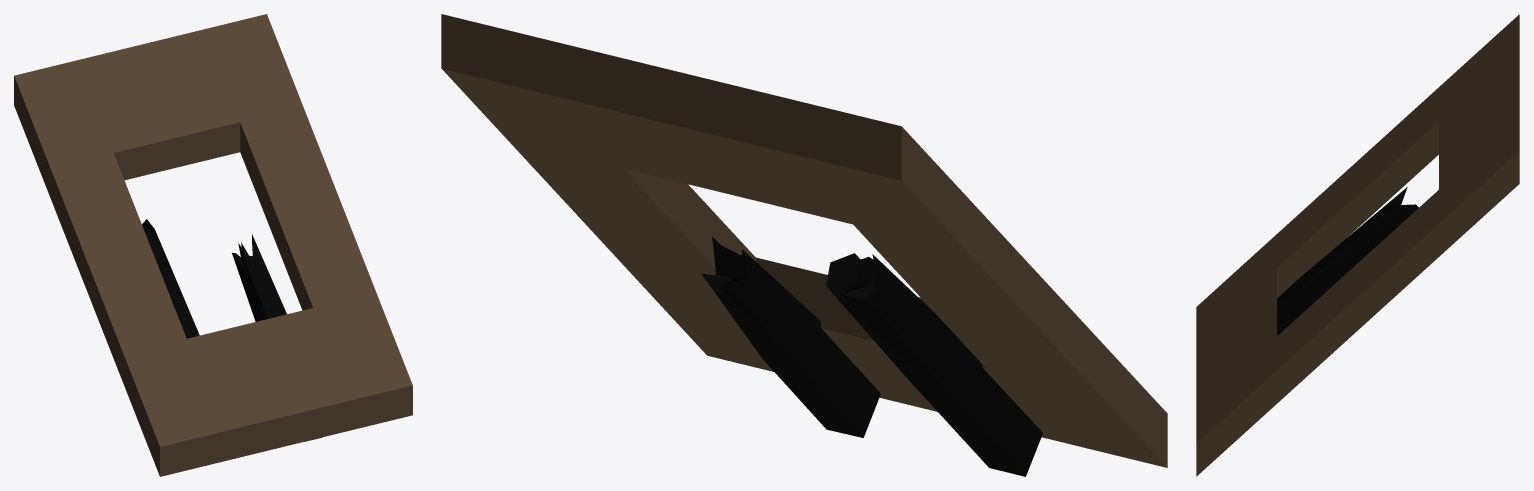
Rendered from dach_1x1_kaputt.glb.
3 views of the same model, side by side, from view 1: azimuth 30°, elevation 25°; view 2: azimuth 150°, elevation 25°; view 3: azimuth 270°, elevation 25° (orthographic). The views are drawn at different scales.
Visible parts, largest first — view 1: dach_1x1_kaputt; view 2: dach_1x1_kaputt; view 3: dach_1x1_kaputt.
Boxes of the visible parts, <box> form: dach_1x1_kaputt: <box>14,14,412,476</box>; dach_1x1_kaputt: <box>441,14,1167,476</box>; dach_1x1_kaputt: <box>1196,14,1519,476</box>.
Bounding box in the file's own units: 1 × 1.16 × 1.
